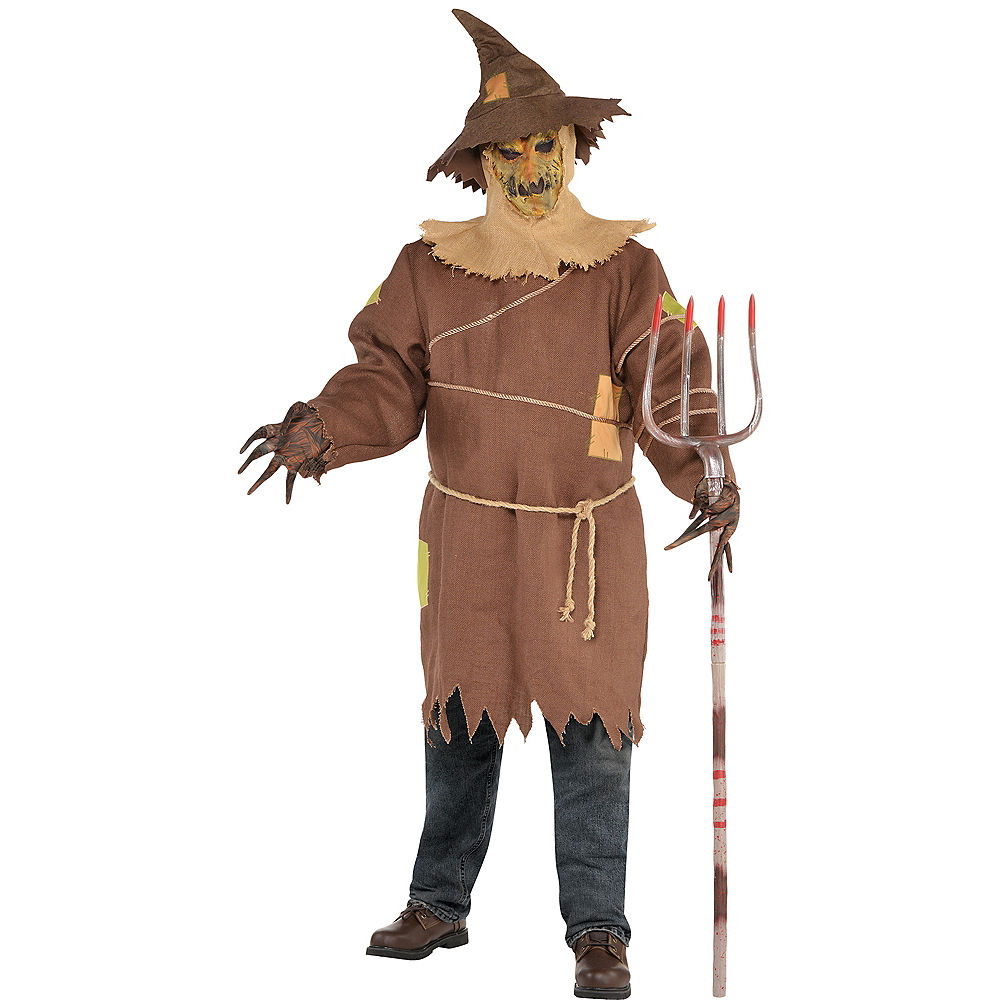person-like: (230, 2, 745, 1000)
